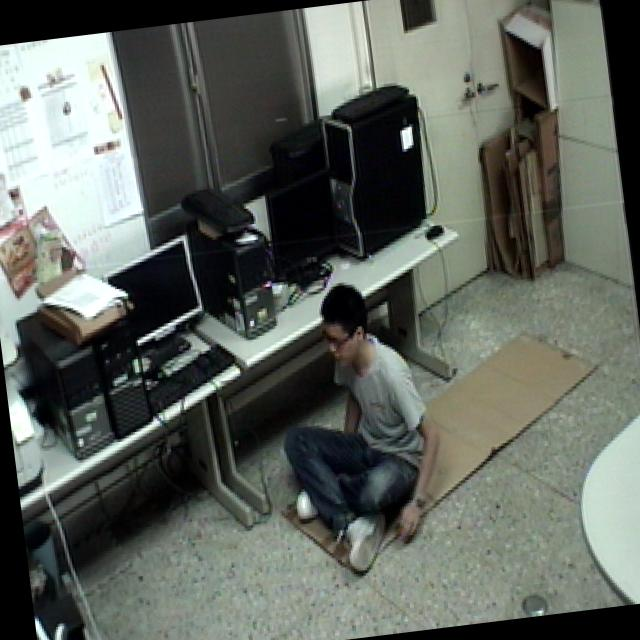sit: (257, 272, 452, 581)
